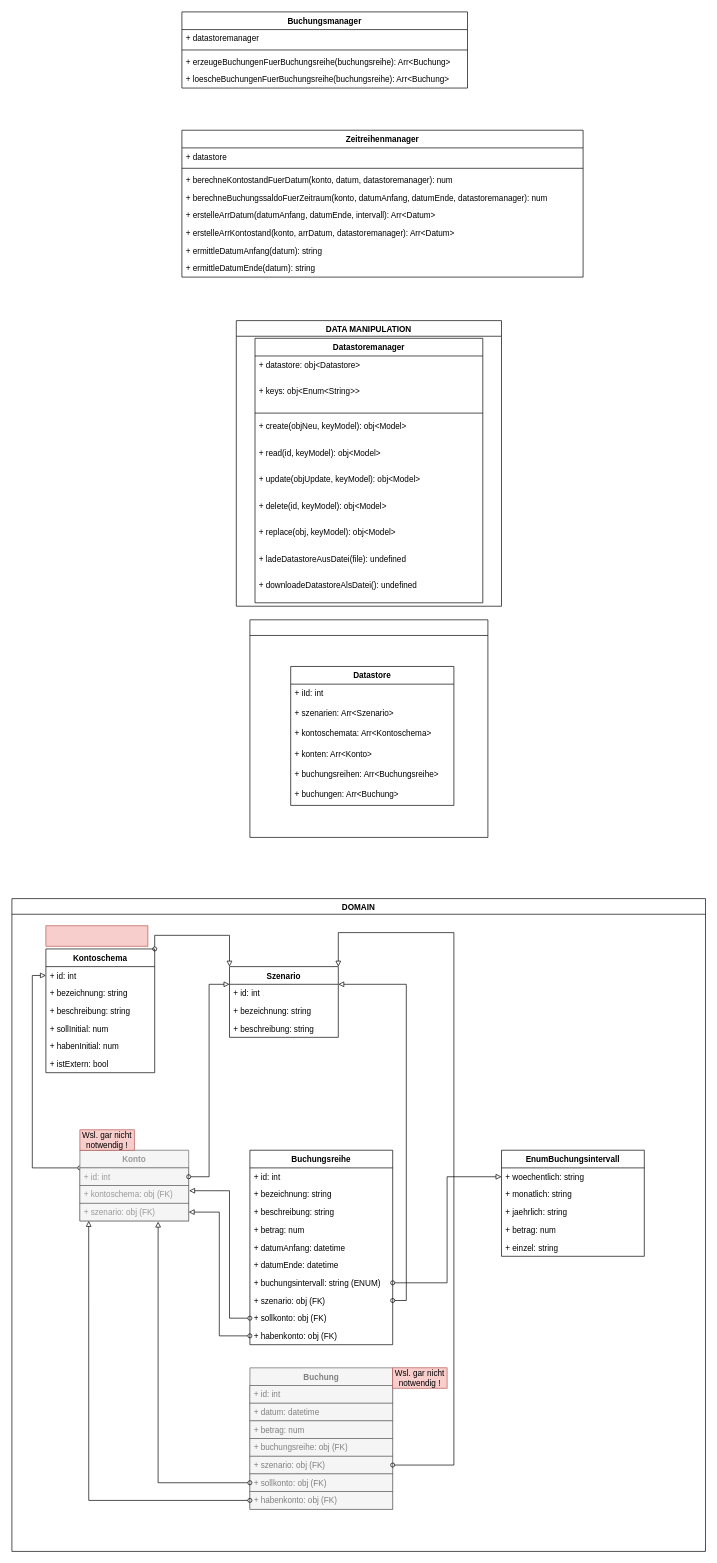
Image size: 717x1563. Some labels were removed from this diagram. The centre of each missing label's shape, as x and y in pixels:
DATA: the point at 368,728
In "Konto" umbenennen. Bisheriges "Konto" löschen.: the point at 96,935
